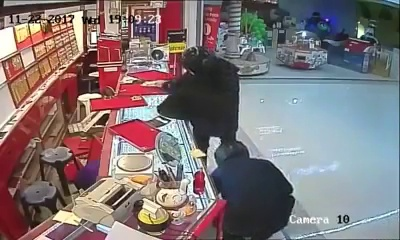helmet: (210, 137, 250, 161), (178, 43, 211, 72)
